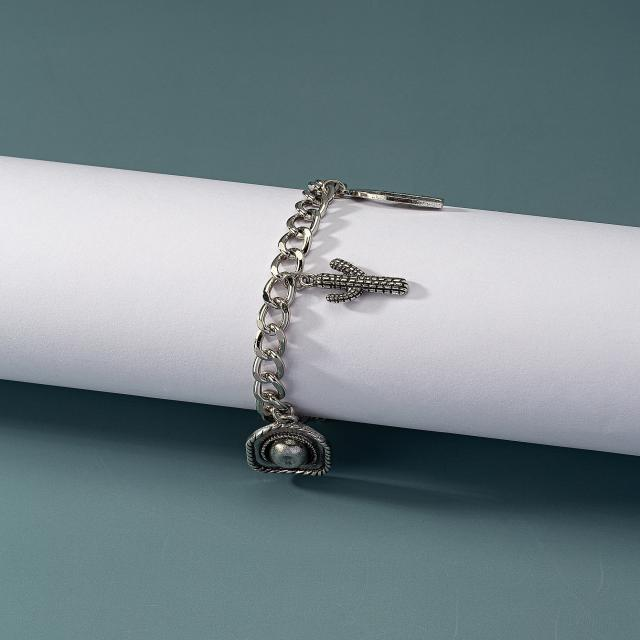bracelet: (172, 109, 595, 594)
